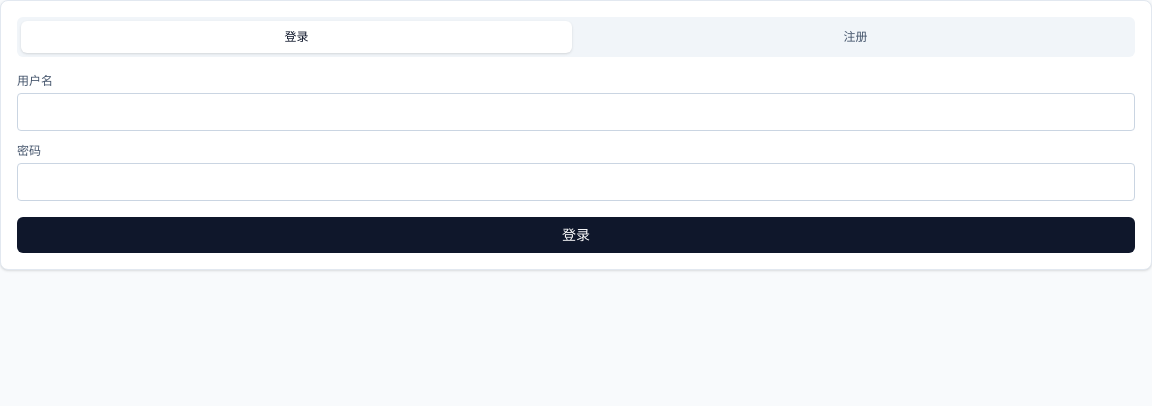
Scenario: AuthPanel › validates register password length before submit
Click the button "注册" at (856, 37), box [580,21,1131,53]
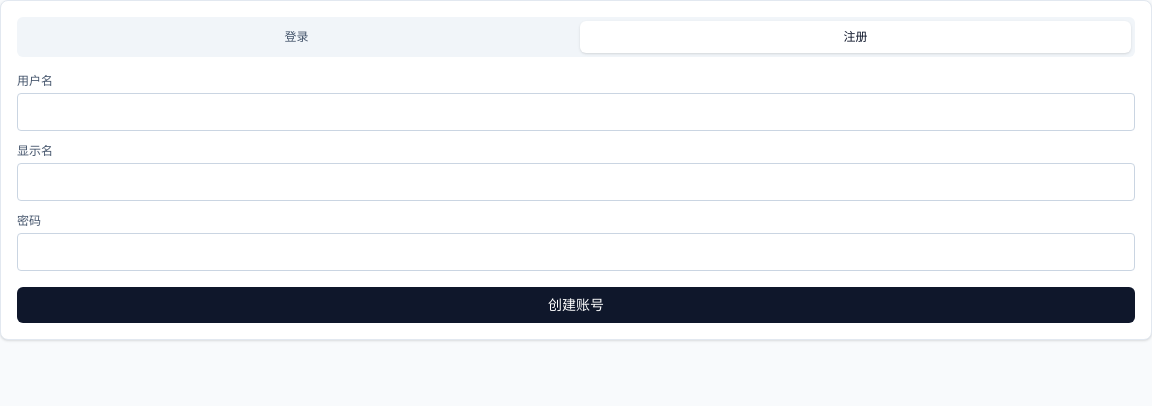
Type "alice" into the field labelled "用户名" at (576, 112), box [17,93,1135,131]
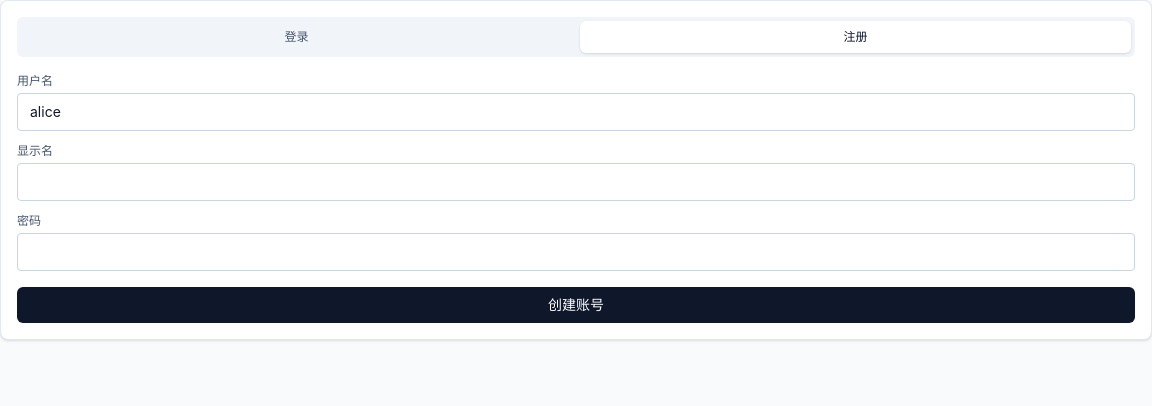
Type "Alice" into the field labelled "显示名" at (576, 182), box [17,163,1135,201]
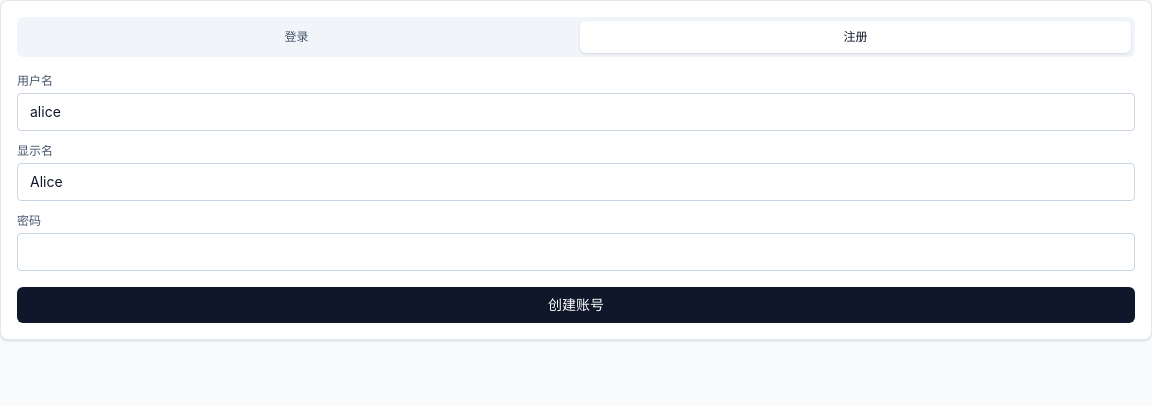
Type "123" into the password field labelled "密码" at (576, 252), box [17,233,1135,271]
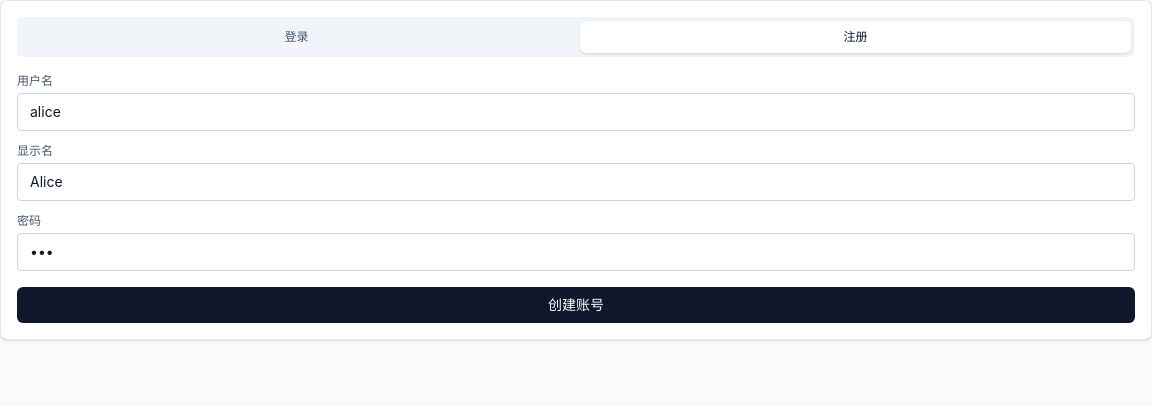
Click the button "创建账号" at (576, 305), box [17,287,1135,323]
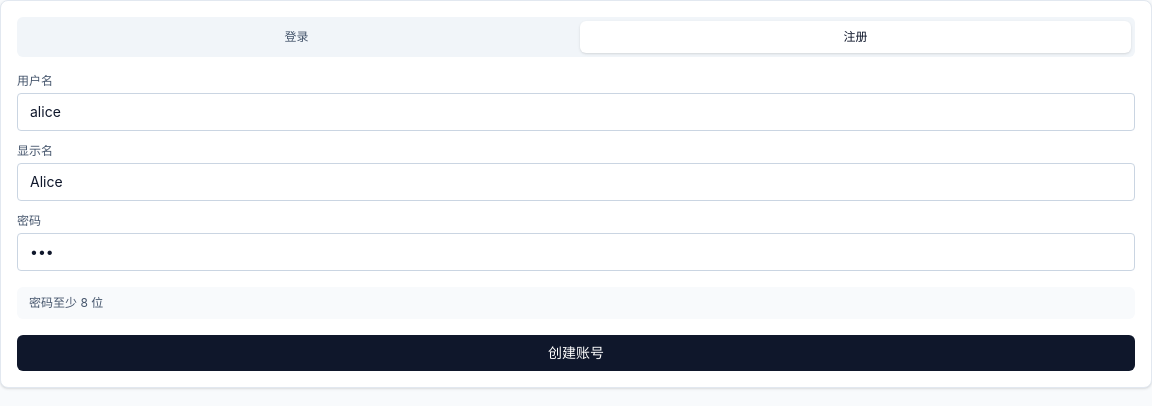
Expected: the text "密码至少 8 位" is shown, [17,287,1135,319]
